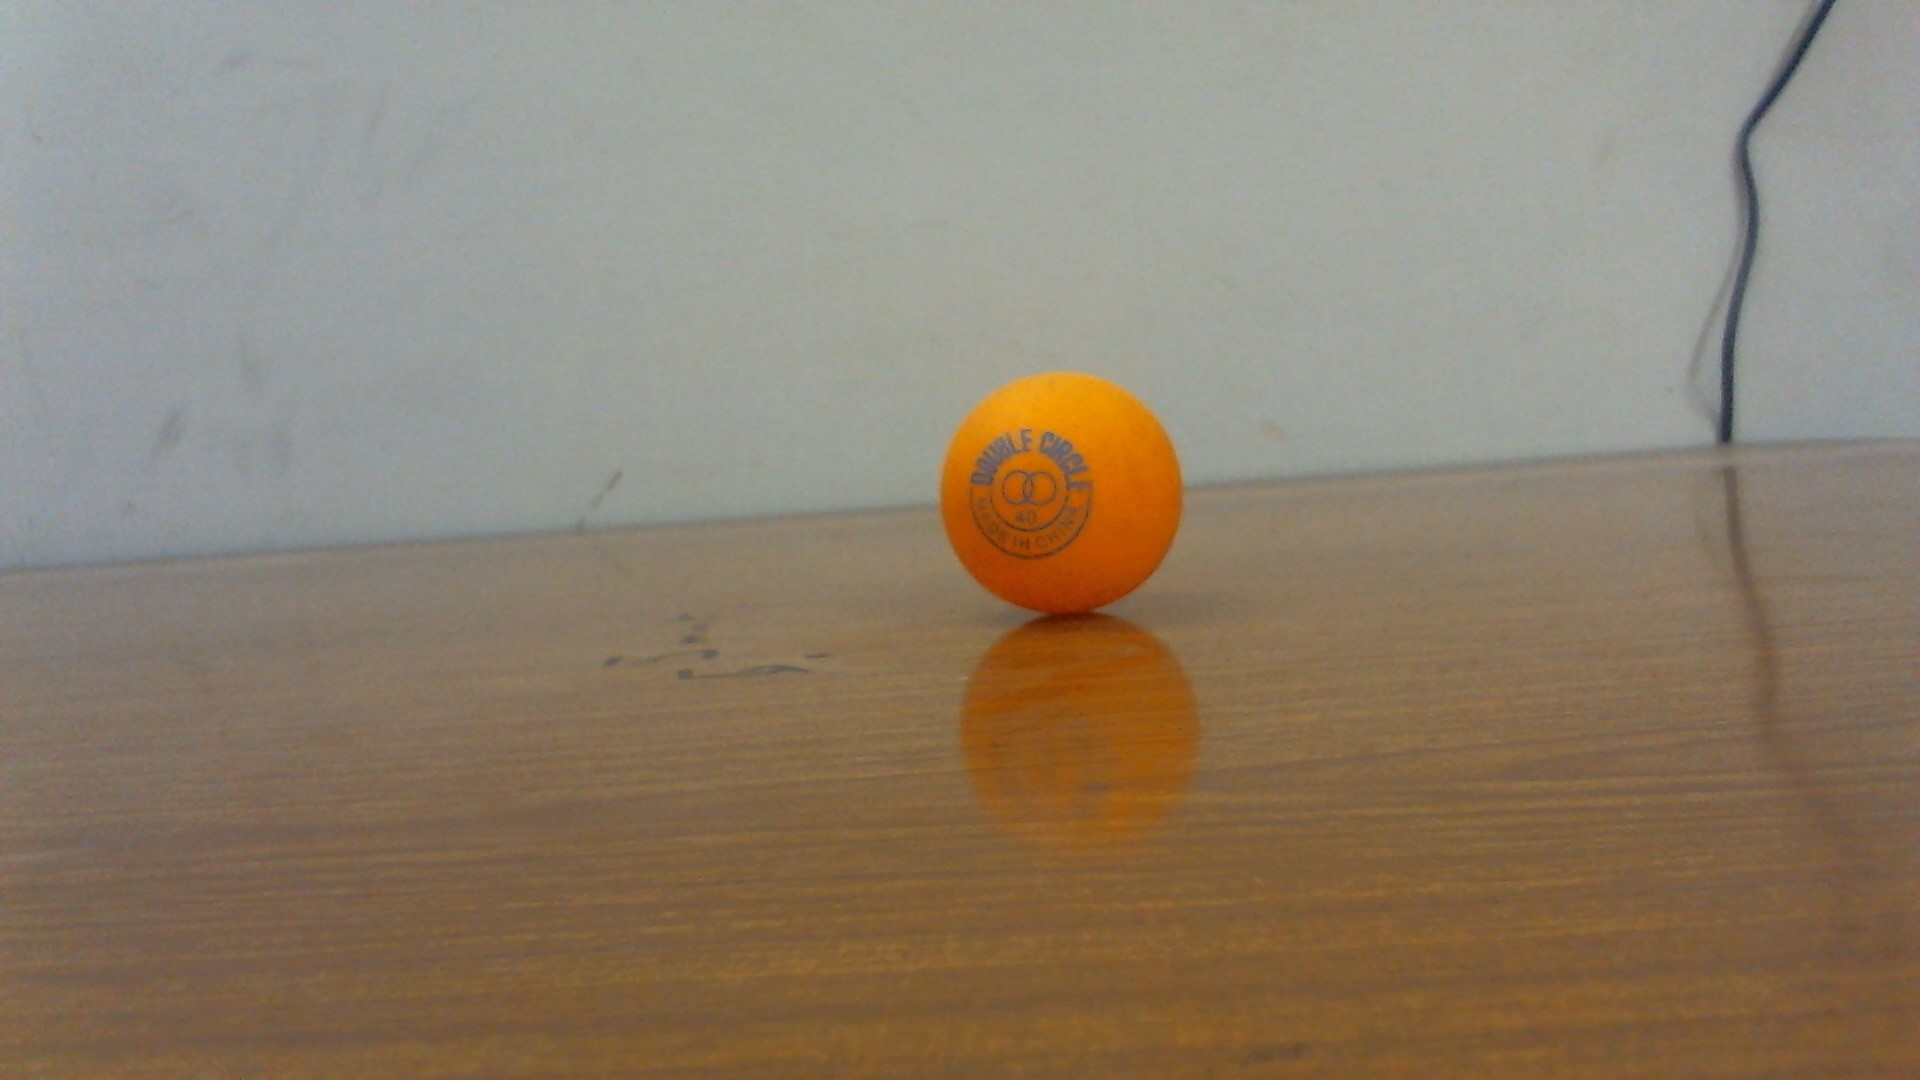ball: (939, 373, 1189, 618)
